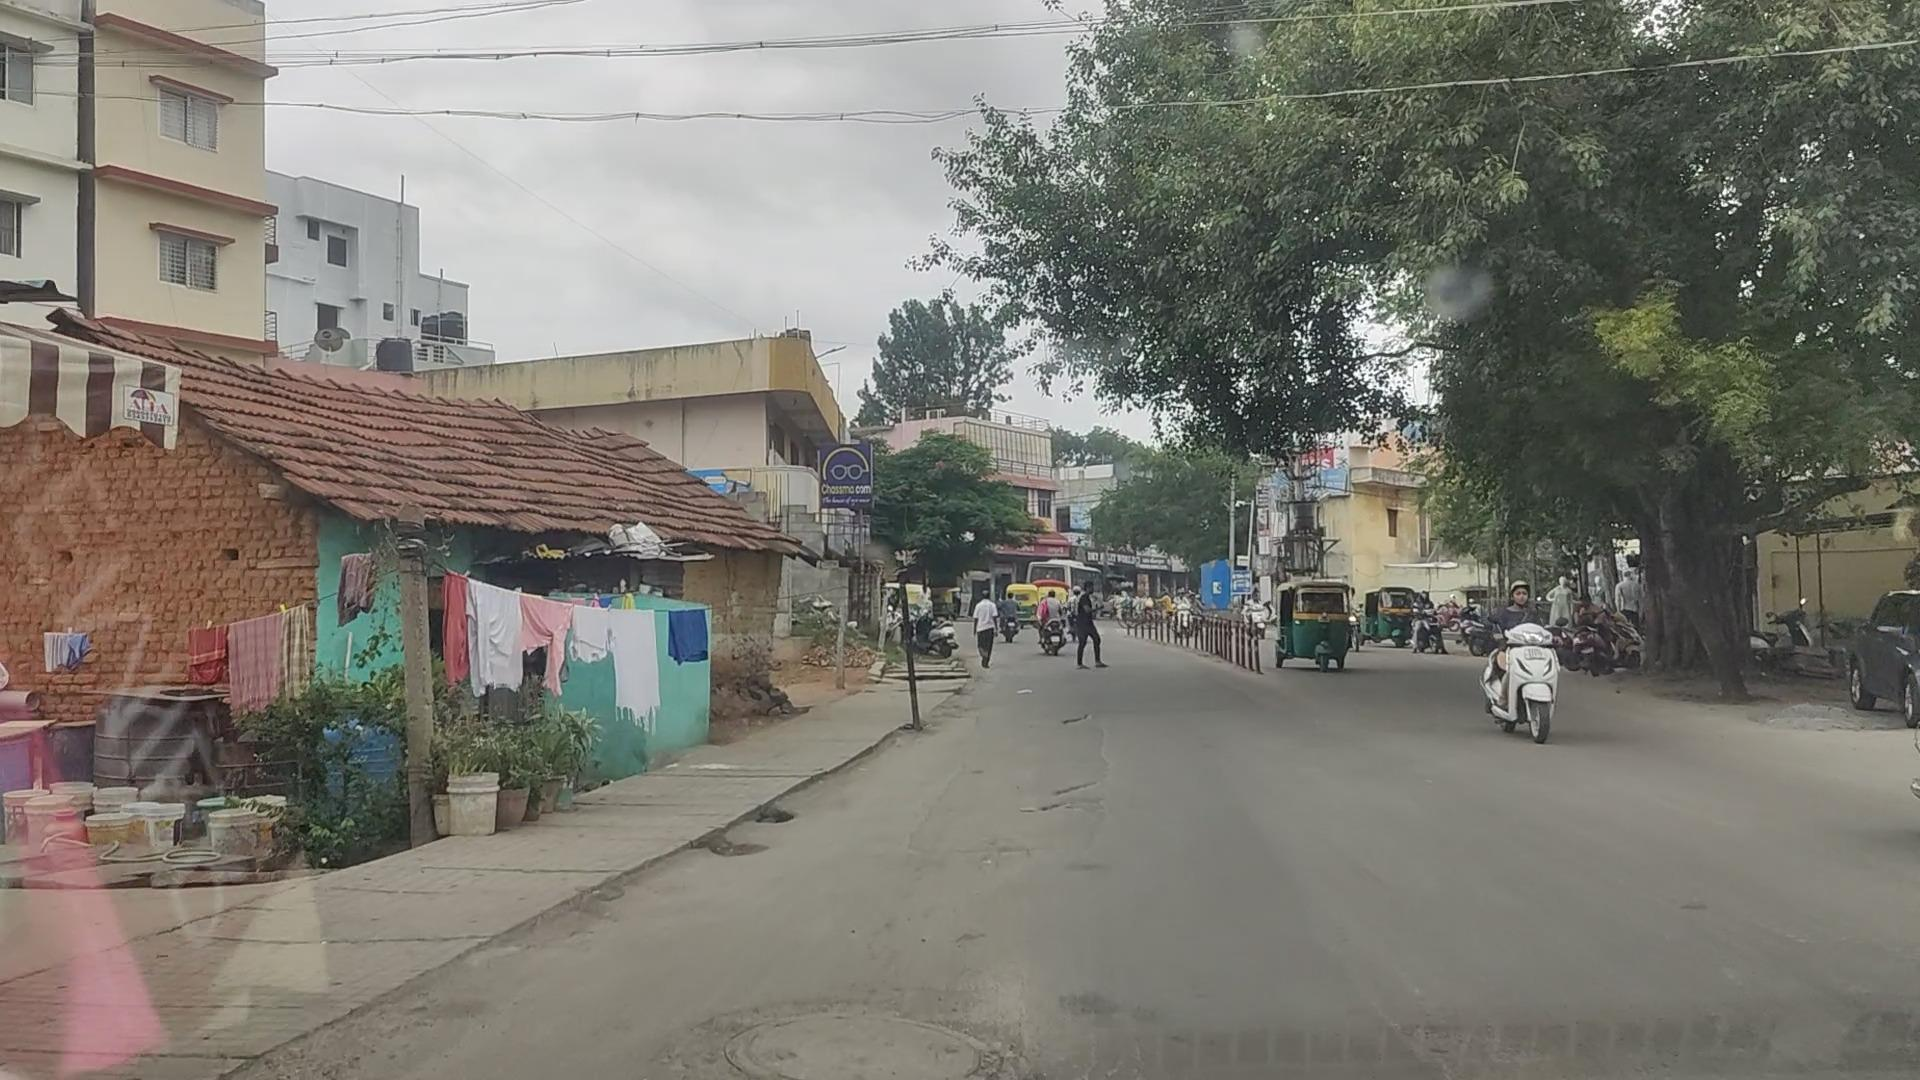RoadDamages: (660, 994, 1054, 1080), (702, 799, 806, 872), (1060, 704, 1110, 773), (1030, 768, 1093, 817), (968, 844, 1040, 876)
